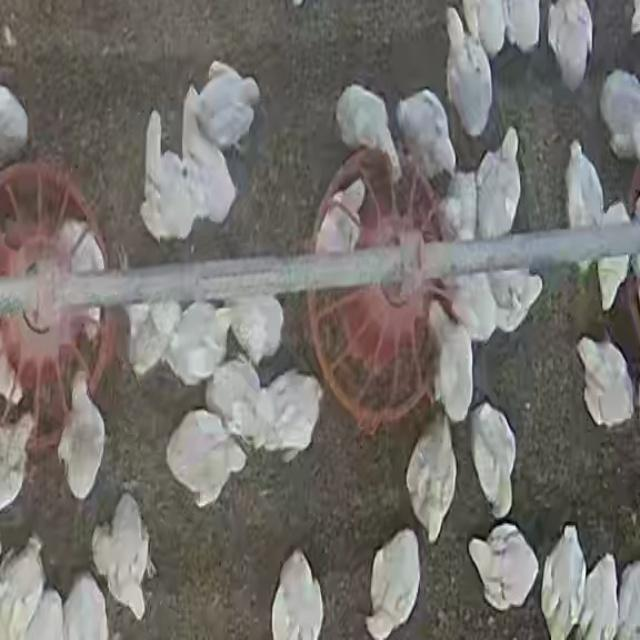chicken: (132, 108, 198, 244), (166, 407, 249, 512), (90, 492, 154, 621), (182, 84, 239, 226), (405, 412, 460, 548), (59, 370, 110, 507), (361, 526, 422, 640), (463, 525, 542, 612), (444, 8, 494, 141), (424, 300, 475, 425), (572, 335, 636, 433), (469, 399, 520, 521), (397, 89, 456, 187), (476, 127, 526, 241), (538, 525, 586, 638), (548, 2, 596, 94), (564, 140, 607, 236)
